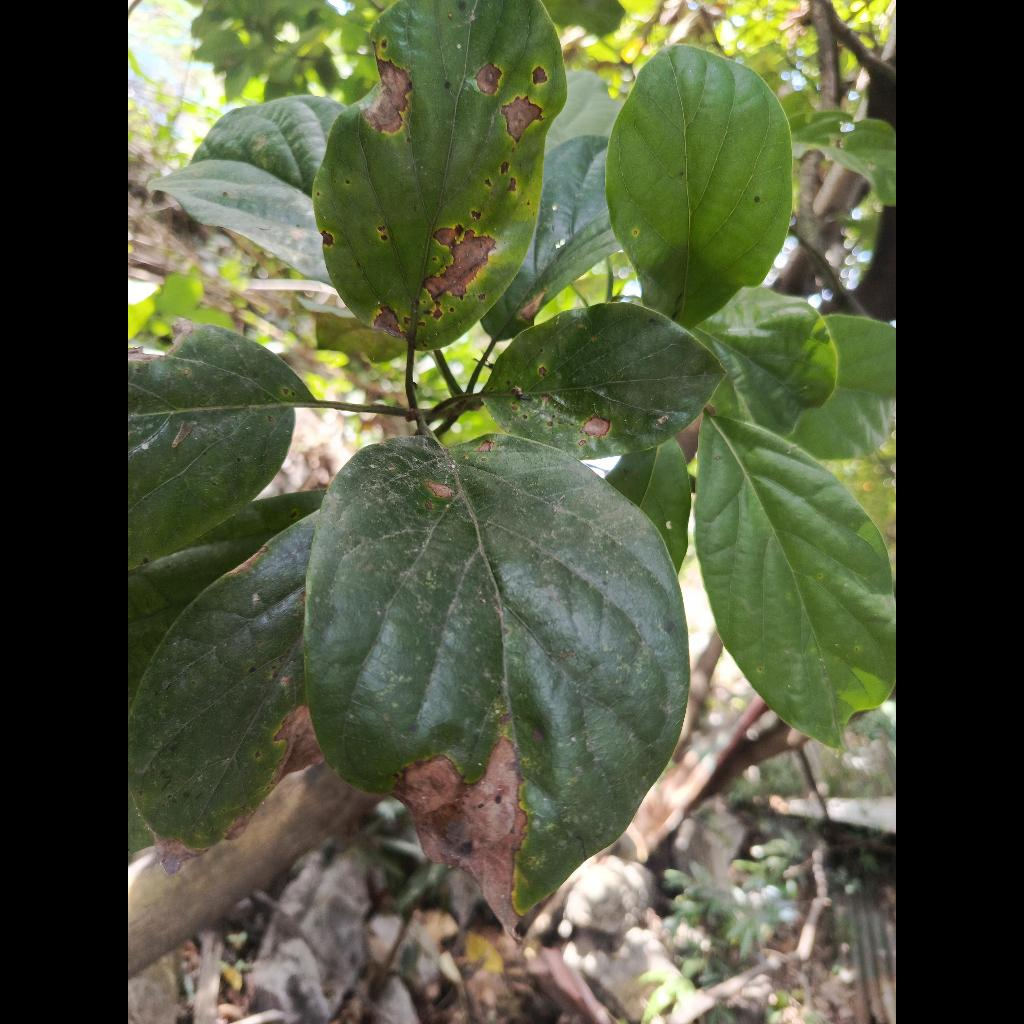antracnosis_hoja: (304, 436, 687, 930), (311, 0, 566, 350)
